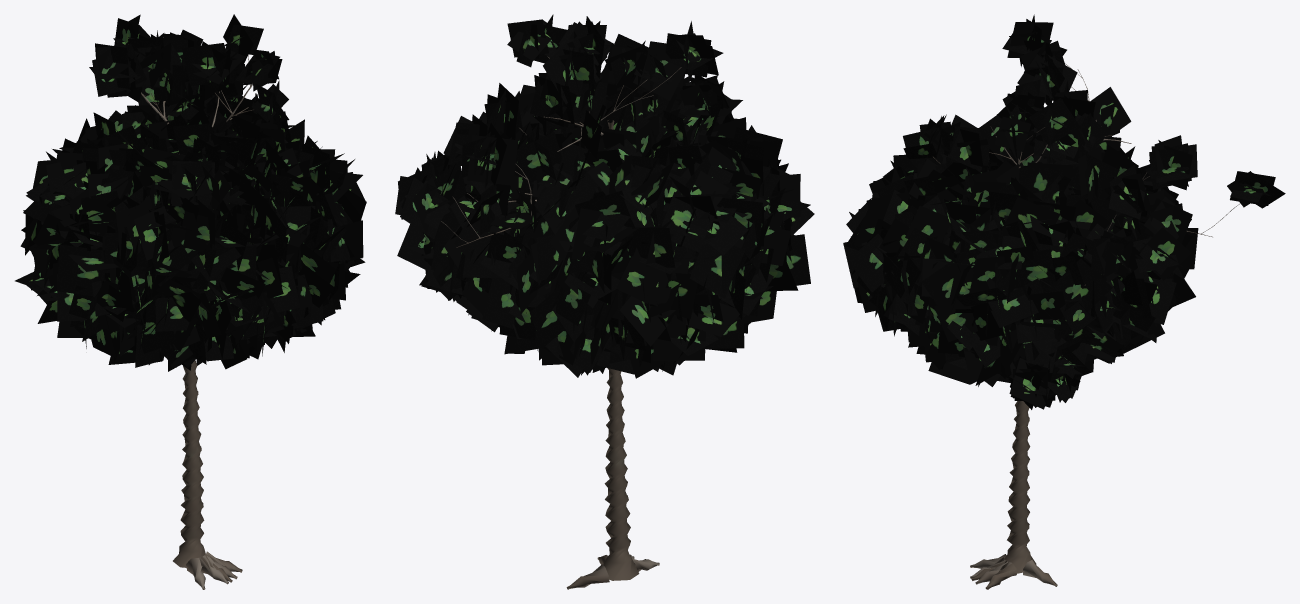
The model's file is SM_Tree_Broadleaf_01.fbx.
3 renders of one model, left to right at view 1: azimuth 30°, elevation 25°; view 2: azimuth 150°, elevation 25°; view 3: azimuth 270°, elevation 25°, orthographic. The views are drawn at different scales.
Visible parts, largest first — view 1: SM_Tree_Broadleaf_01; view 2: SM_Tree_Broadleaf_01; view 3: SM_Tree_Broadleaf_01.
Part boxes in pixels (x1,y1,x2,y2): SM_Tree_Broadleaf_01: (15, 14, 366, 589); SM_Tree_Broadleaf_01: (395, 14, 814, 589); SM_Tree_Broadleaf_01: (843, 14, 1285, 589).
Size of the model in its own units: 7.94 by 12.56 by 9.68.
